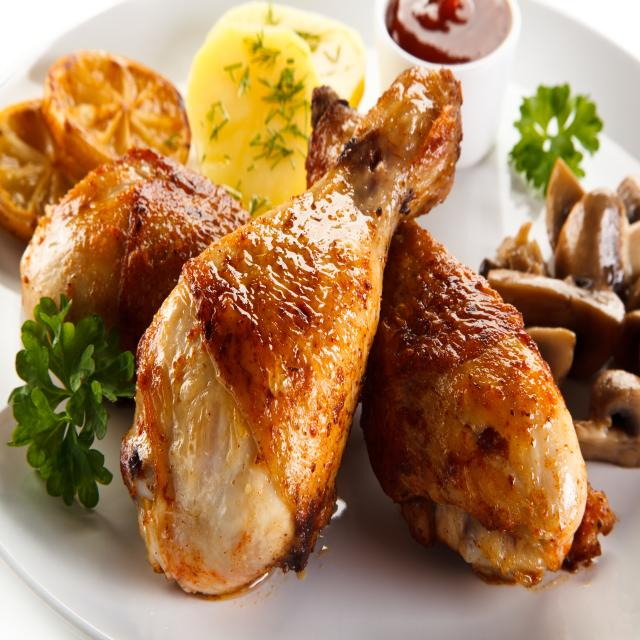pollo: (118, 68, 467, 599)
